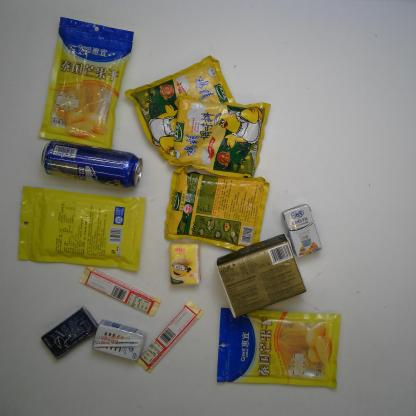Alcohol: (37, 136, 145, 190)
Chocolate: (135, 300, 204, 374), (76, 265, 162, 318)
Dried Fruit: (34, 13, 137, 153), (16, 184, 148, 273), (214, 306, 341, 389)
Gum: (38, 306, 101, 360)
Milk: (90, 317, 147, 363), (281, 203, 323, 258)
Seasoner: (121, 53, 236, 151), (160, 163, 270, 253), (164, 90, 274, 178)
Tissue: (212, 234, 308, 320), (167, 238, 202, 287)
